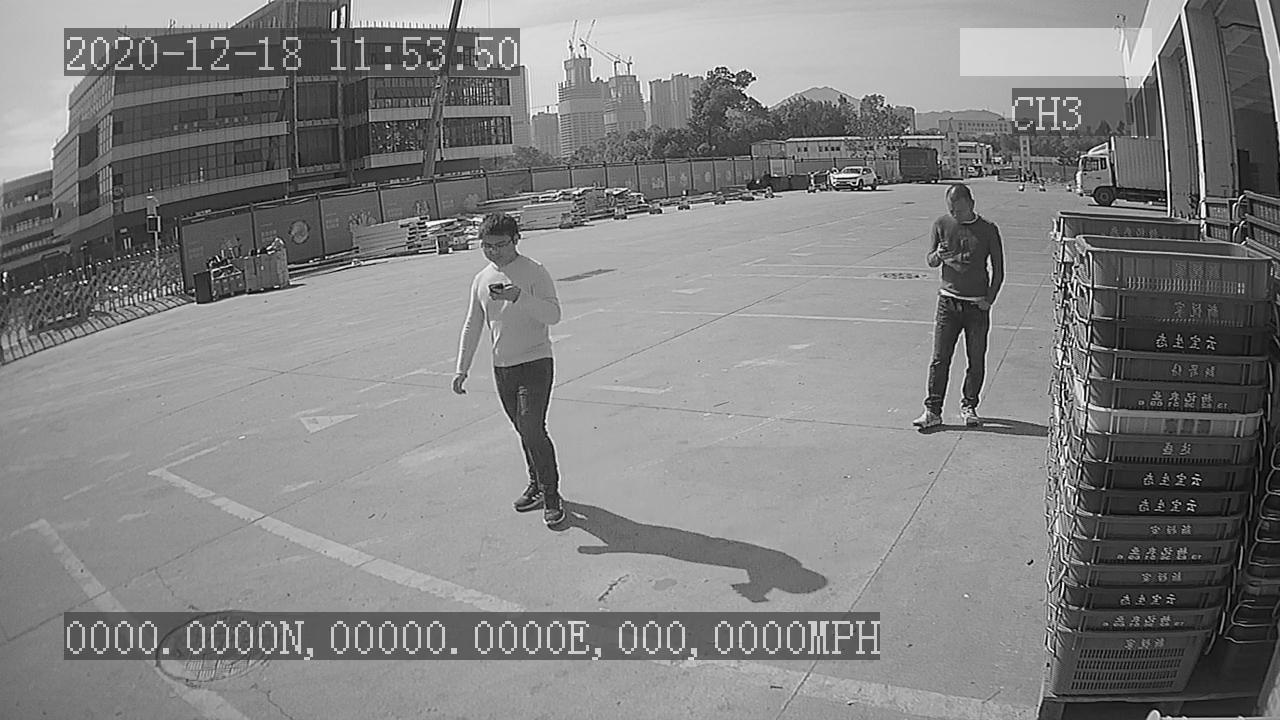person: (443, 211, 576, 533), (906, 185, 1011, 436)
